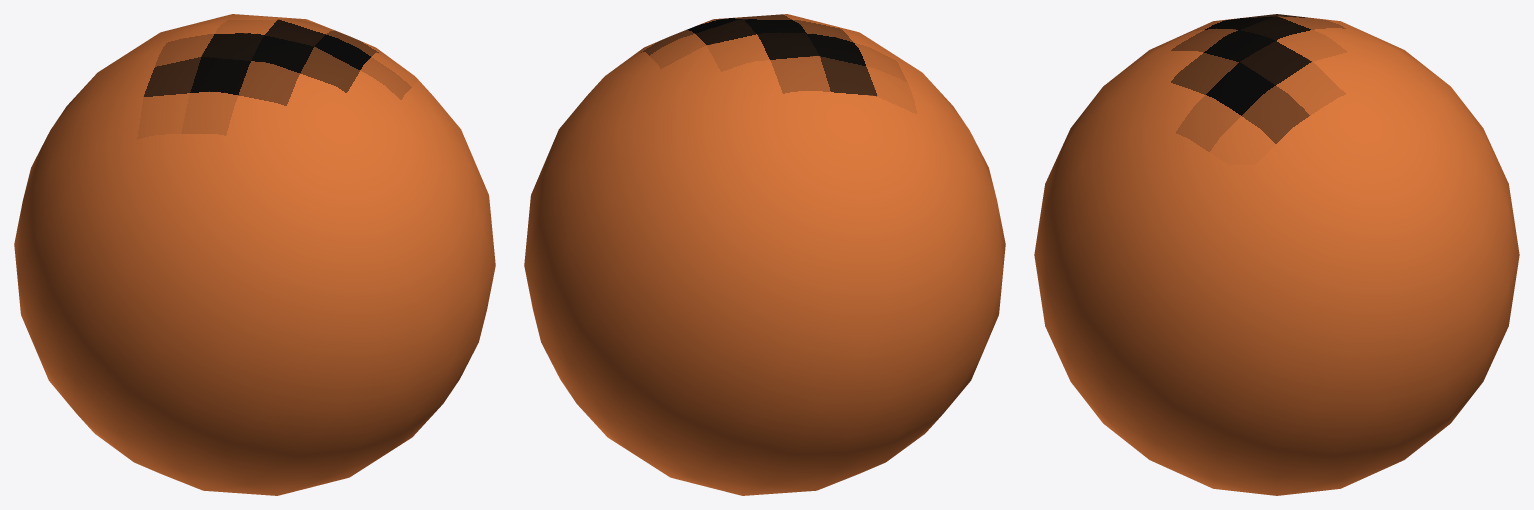
Rendered from ball.glb.
The picture shows the model from 3 angles, left to right: view 1: azimuth 30°, elevation 25°; view 2: azimuth 150°, elevation 25°; view 3: azimuth 270°, elevation 25°; orthographic projection.
Visible parts, largest first — view 1: Ball; view 2: Ball; view 3: Ball.
Boxes of the visible parts, x1,y1,x2,y2 form: Ball: (14,14,495,495); Ball: (524,14,1005,495); Ball: (1034,14,1519,495).
Size of the model in its own units: 0.04 by 0.04 by 0.04.
1 material, 1 textured.
